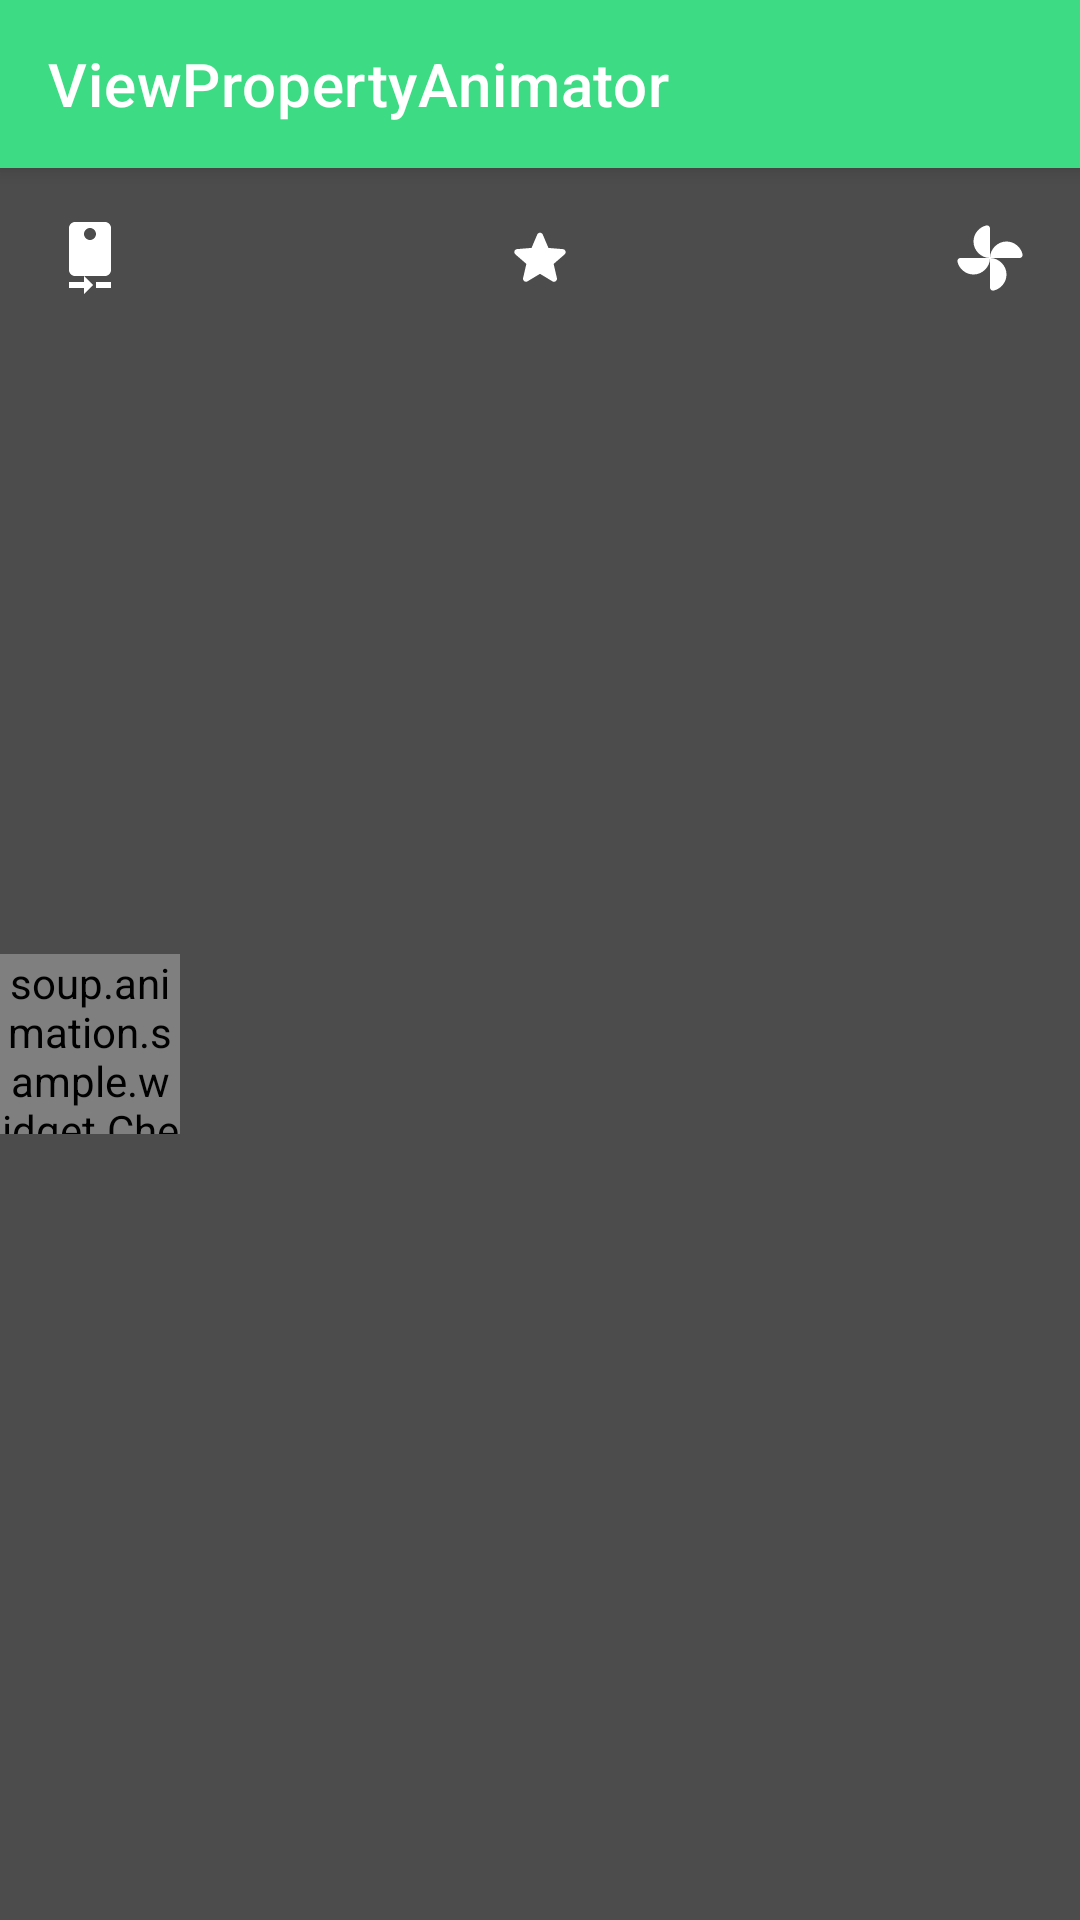

Named icons in this screenshot (1080 x 1920) and their centers, (x,y):
facing back: (90,258)
star: (540,257)
toys: (990,258)
